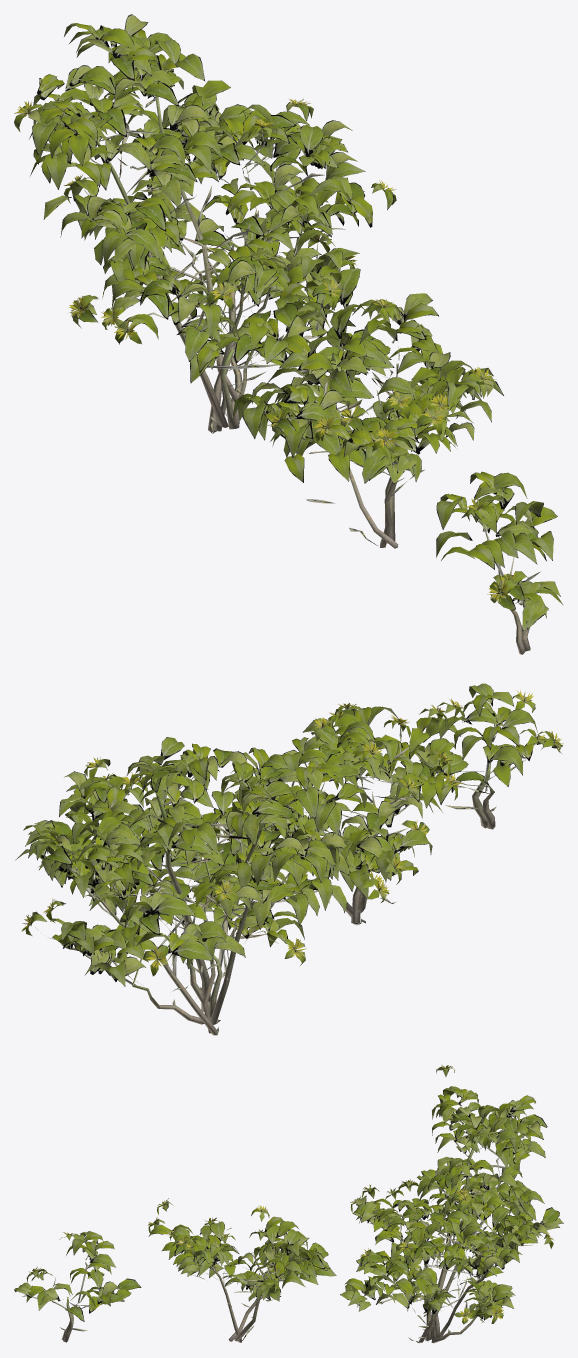
Rendered from didelta_spinosa.glb.
3 renders of one model, top to bottom at view 1: azimuth 30°, elevation 25°; view 2: azimuth 150°, elevation 25°; view 3: azimuth 270°, elevation 25°, orthographic. The views are drawn at different scales.
Parts seen in each view (by area): view 1: didelta_spinosa_large_LOD0; view 2: didelta_spinosa_large_LOD0; view 3: didelta_spinosa_large_LOD0.
Boxes of the visible parts, x1,y1,x2,y2 form: didelta_spinosa_large_LOD0: [14, 14, 562, 654]; didelta_spinosa_large_LOD0: [15, 683, 563, 1035]; didelta_spinosa_large_LOD0: [14, 1065, 563, 1343].
Size of the model in its own units: 2.12 by 2.07 by 4.56.
Materials: 1 (1 with a texture image).
